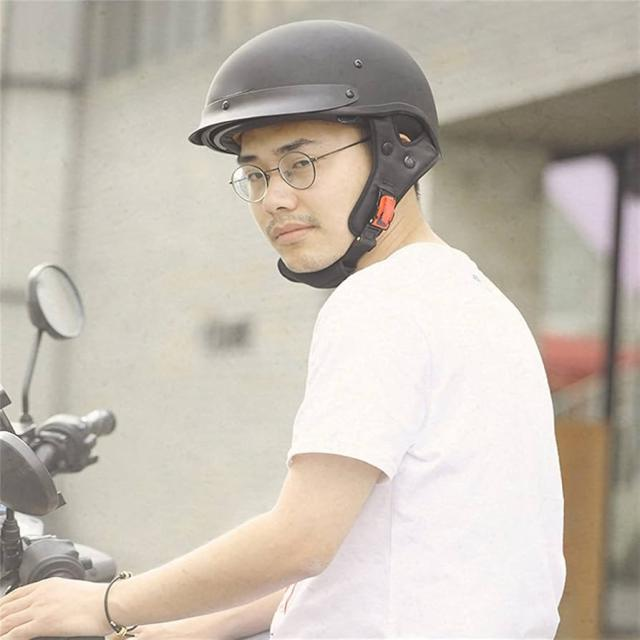Helmet: (177, 8, 456, 296)
